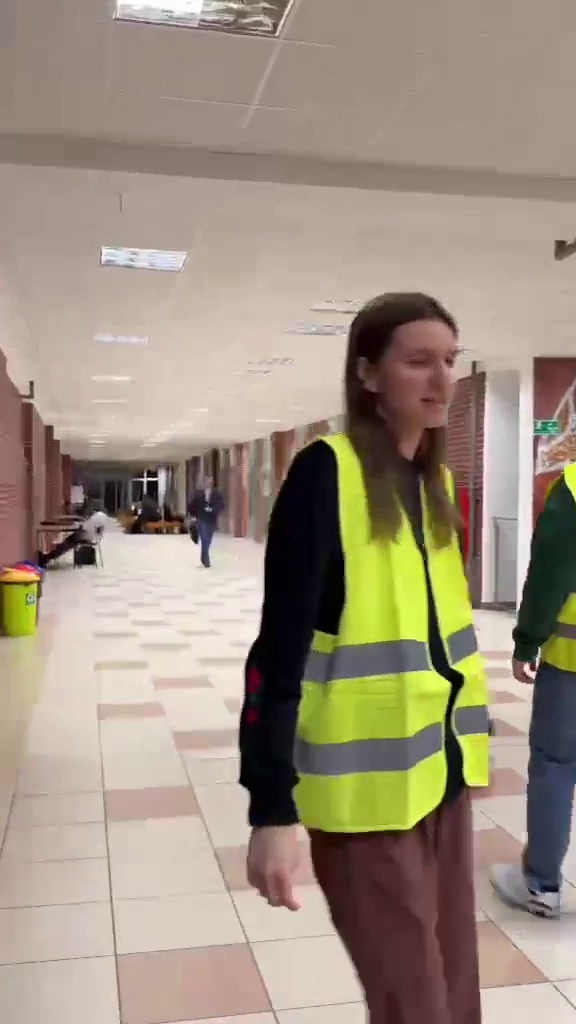vest: (223, 267, 498, 1024), (513, 439, 576, 921)
